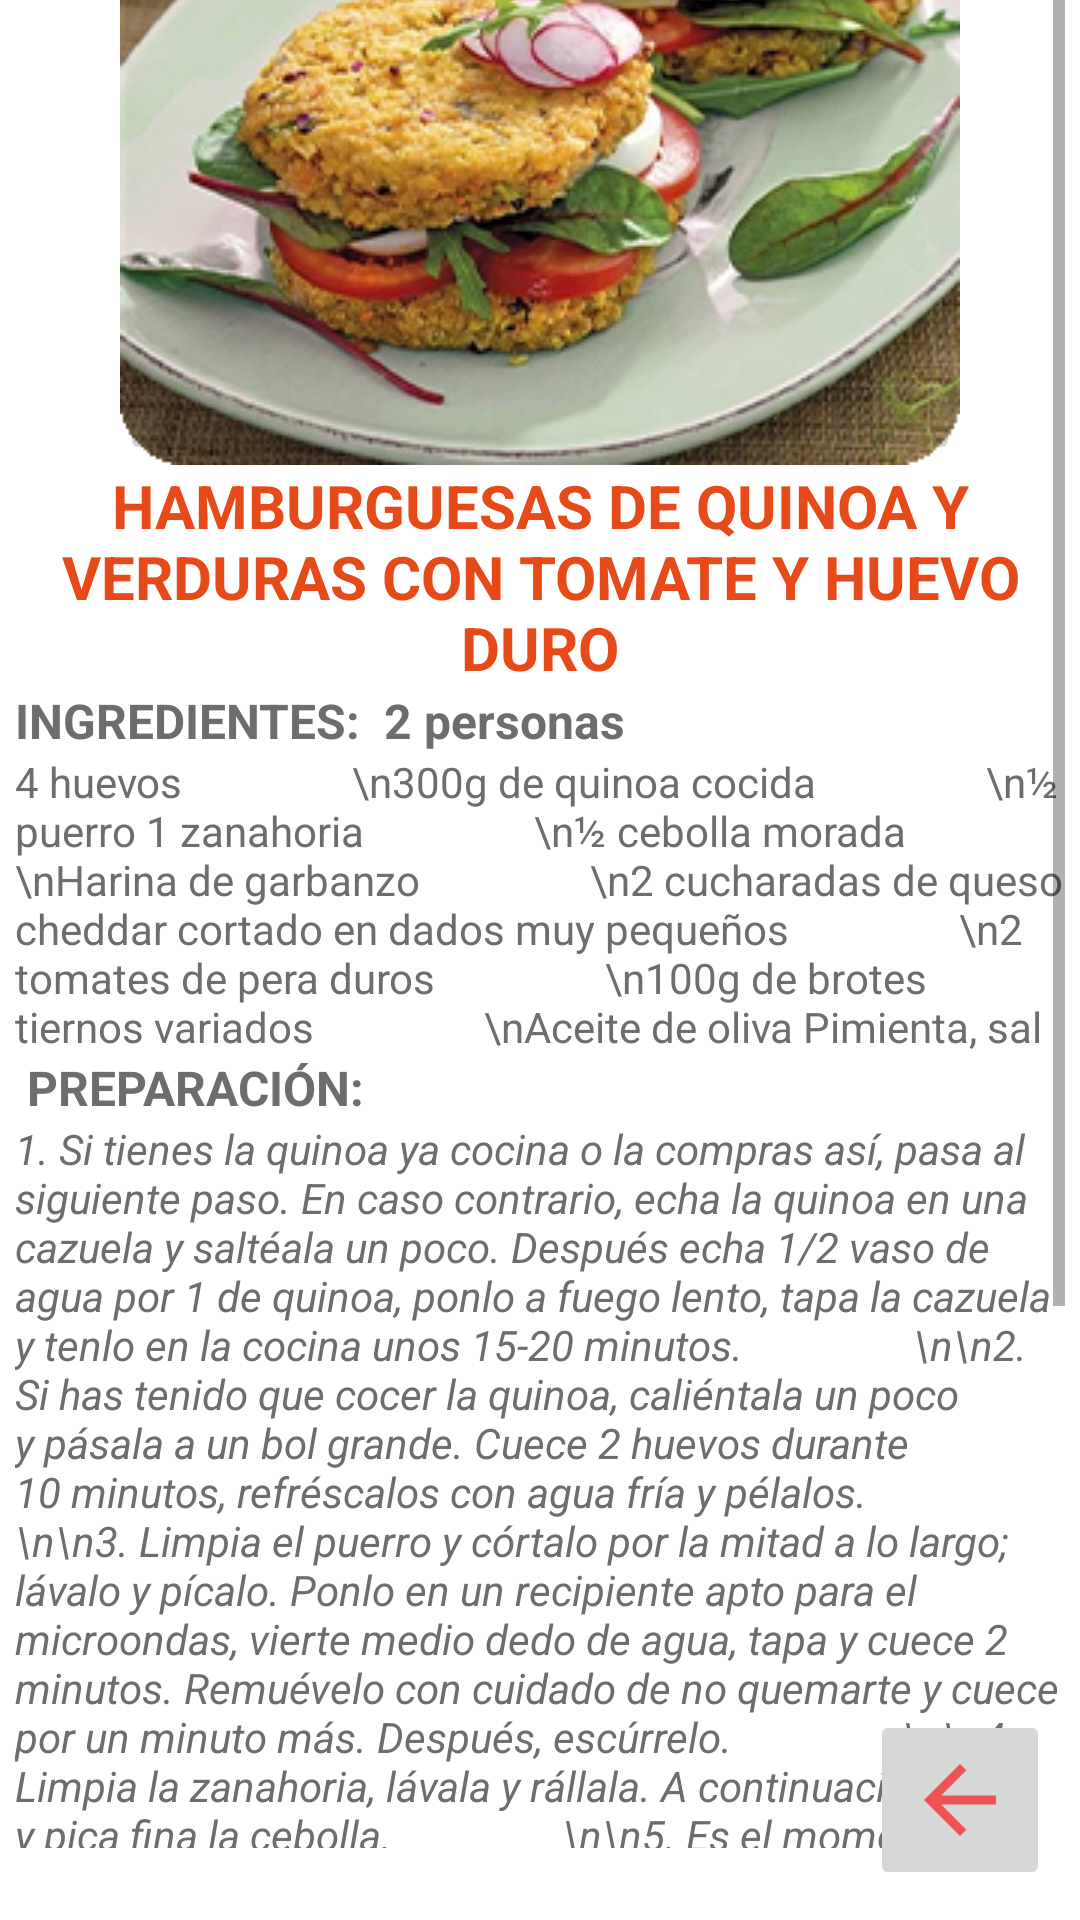

Icon click points for this 1080 x 1920 phone screenshot, format [x,y]:
arrow back: [957,1797]
